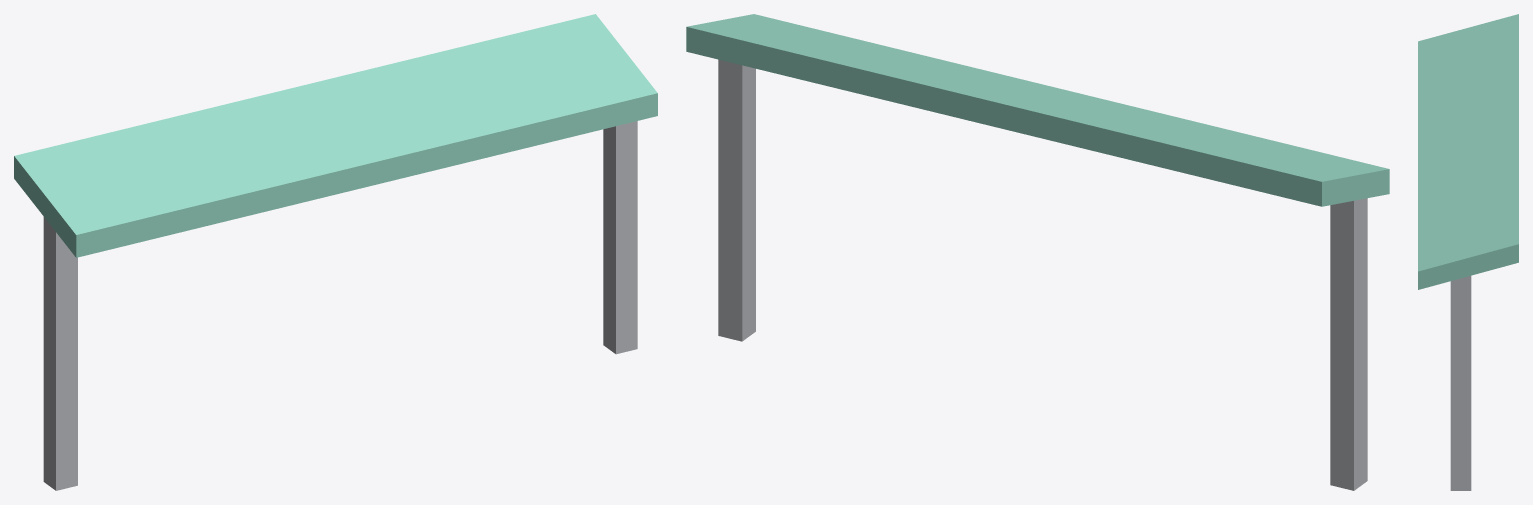
File: detail_awningWide.glb
3 renders of one model, left to right at view 1: azimuth 30°, elevation 25°; view 2: azimuth 150°, elevation 25°; view 3: azimuth 270°, elevation 25°, orthographic. The views are drawn at different scales.
Visible parts, largest first — view 1: detail_awningWide; view 2: detail_awningWide; view 3: detail_awningWide.
Part boxes in pixels (x1,y1,x2,y2): detail_awningWide: (14,14,657,490); detail_awningWide: (686,14,1389,490); detail_awningWide: (1418,14,1518,490).
Bounding box in the file's own units: 0.8 × 0.4 × 0.1479.
